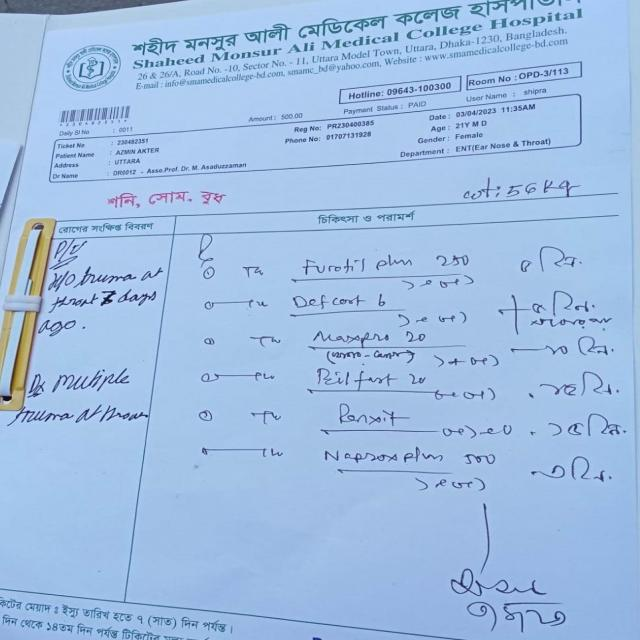Bilfast: (312, 362, 396, 388)
Defcort: (290, 291, 375, 312)
Furotil Plus: (304, 252, 423, 276)
Maxpro: (307, 322, 394, 345)
Naprox Plus: (319, 441, 445, 468)
Renxit: (327, 397, 403, 428)
